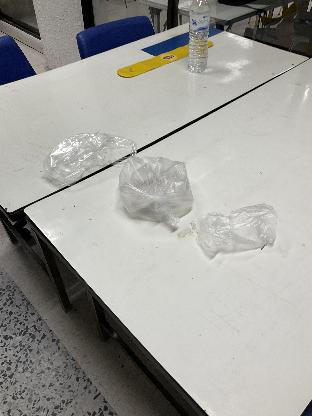Others: (39, 115, 137, 183), (106, 152, 192, 228), (184, 202, 286, 257)
